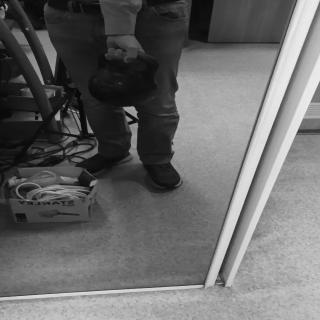kettlebell: (89, 53, 160, 107)
